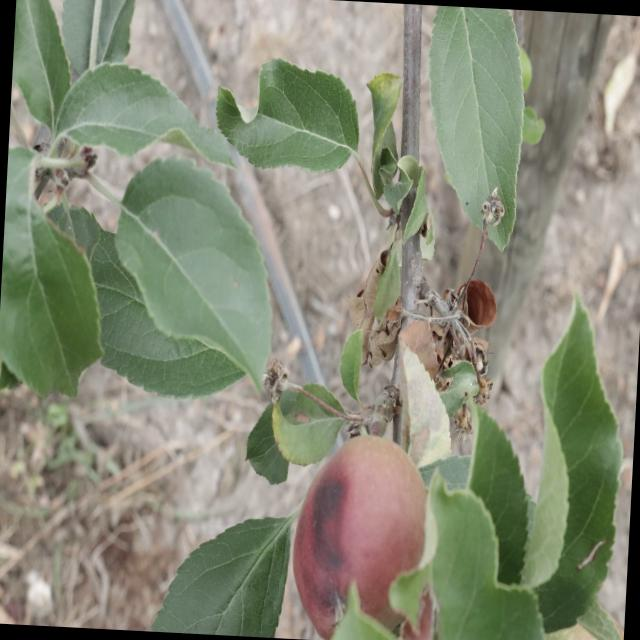-FireBlight-: (357, 245, 503, 460)
